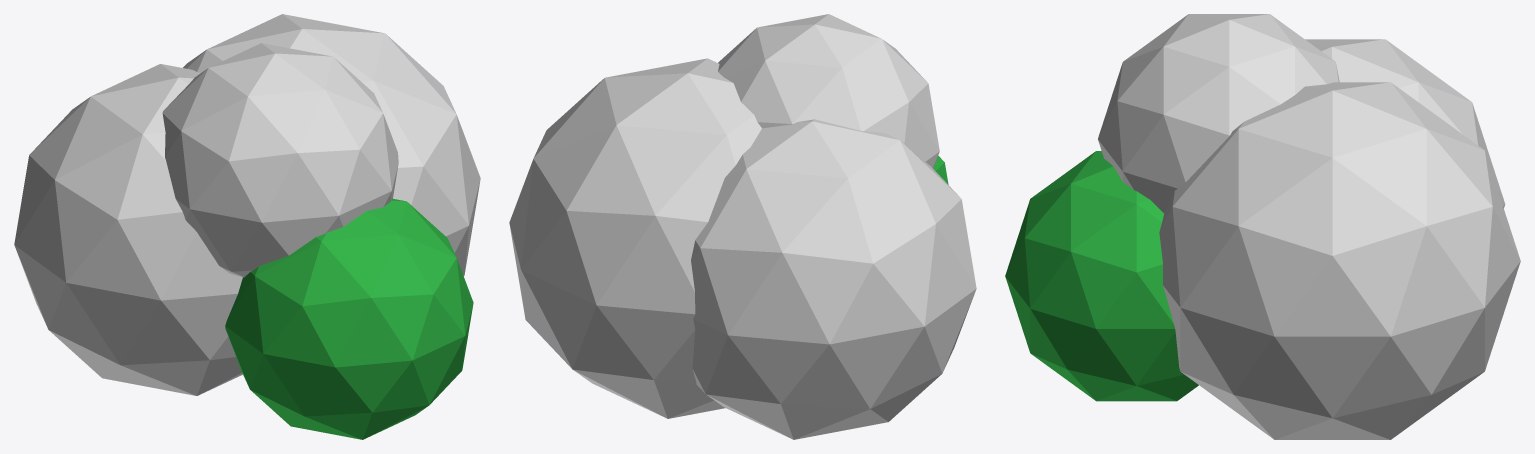
The model's file is ImprovedBush.fbx.
3 renders of one model, left to right at view 1: azimuth 30°, elevation 25°; view 2: azimuth 150°, elevation 25°; view 3: azimuth 270°, elevation 25°, orthographic. The views are drawn at different scales.
Parts seen in each view (by area): view 1: Icosphere.002, Icosphere, Icosphere.003, Icosphere.001; view 2: Icosphere.002, Icosphere.001, Icosphere.003; view 3: Icosphere.001, Icosphere, Icosphere.003, Icosphere.002.
Boxes of the visible parts, <box> form: Icosphere.002: <box>14,64,242,395</box>; Icosphere: <box>225,198,473,439</box>; Icosphere.003: <box>162,43,398,277</box>; Icosphere.001: <box>183,14,480,275</box>; Icosphere.002: <box>691,119,976,439</box>; Icosphere.001: <box>509,58,761,418</box>; Icosphere.003: <box>718,14,939,168</box>; Icosphere.001: <box>1159,82,1520,439</box>; Icosphere: <box>1005,151,1198,401</box>; Icosphere.003: <box>1098,14,1339,213</box>; Icosphere.002: <box>1305,39,1505,208</box>.
Bounding box in the file's own units: 374 × 313 × 392.
